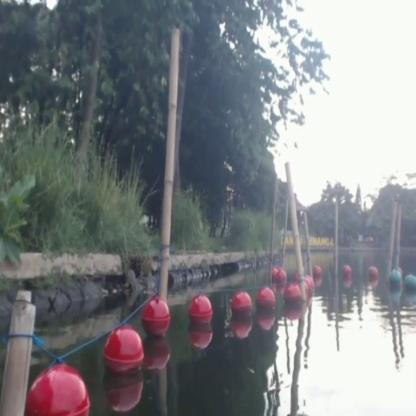green_buoy: (390, 269, 402, 292), (405, 274, 415, 296)
red_buoy: (27, 376, 89, 410), (108, 328, 142, 382), (143, 300, 167, 334), (192, 298, 210, 327), (232, 294, 250, 322), (286, 283, 302, 311), (271, 265, 286, 287), (258, 292, 273, 309), (368, 264, 378, 283), (312, 262, 322, 280), (306, 274, 314, 296), (342, 262, 350, 282)
